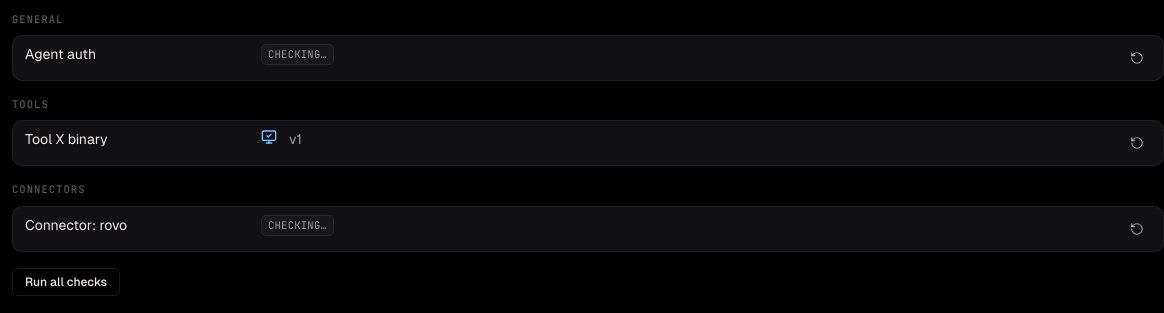
Test case: HealthSettings › a stale result from a superseded run does not overwrite a fresh running state
Check: the text "Tool X binary" is shown, box [25, 131, 108, 147]
Check: the text "v1" is shown, box [289, 131, 302, 147]
// two per-row re-runs: the first is superseded by the second
What coordinates should you click on to do the following:
click the button named "re-run · bin:tool-x"
I would click on:
 (1137, 143)
Its box is [1123, 129, 1151, 157].
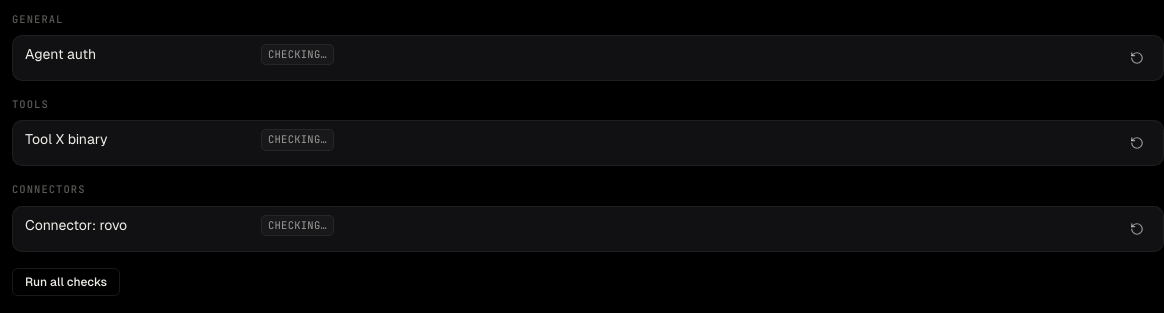
What coordinates should you click on to do the following:
click the button named "re-run · bin:tool-x"
I would click on:
 (1137, 143)
Its box is [1123, 129, 1151, 157].
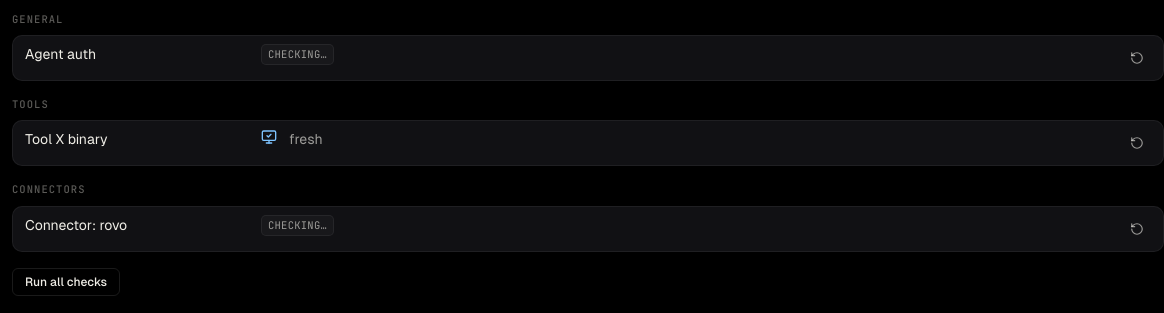
Check: the text "fresh" is shown, box [289, 131, 322, 147]
